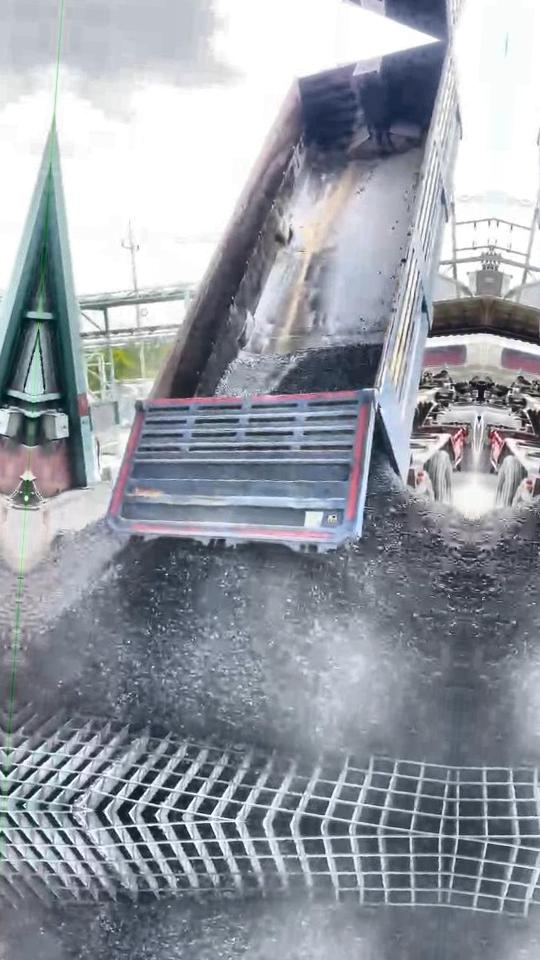gravel: (13, 461, 472, 762), (216, 344, 381, 396)
